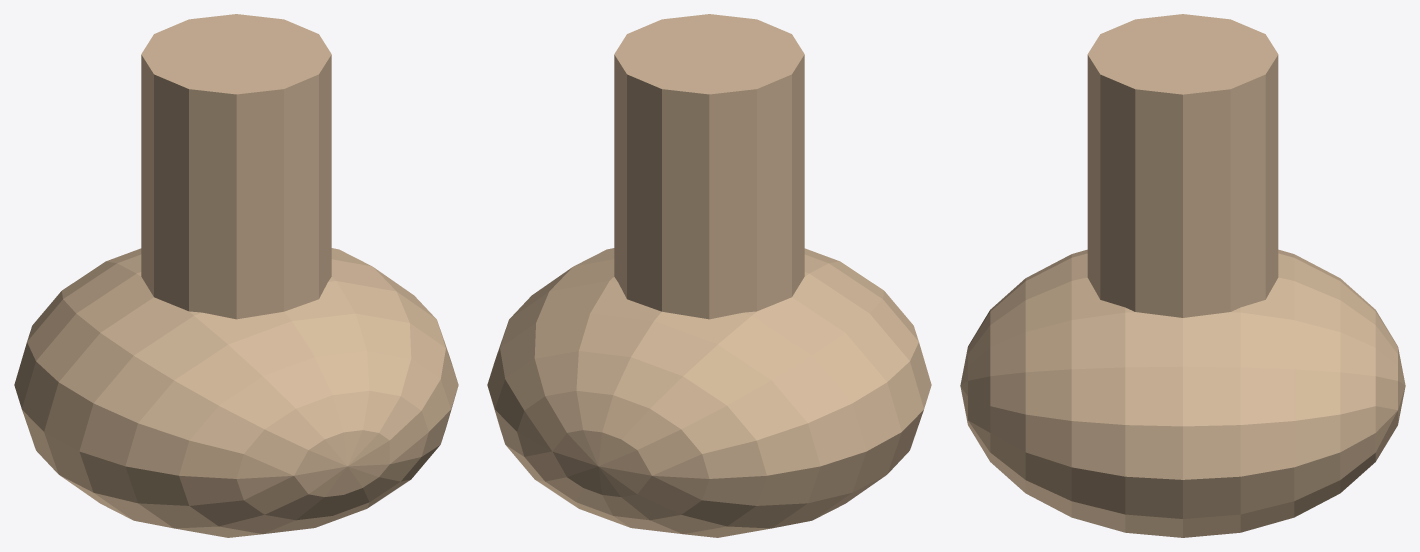
Rendered from DoorKnob.glb.
3 renders of one model, left to right at view 1: azimuth 30°, elevation 25°; view 2: azimuth 150°, elevation 25°; view 3: azimuth 270°, elevation 25°, orthographic.
Parts seen in each view (by area): view 1: DoorKnob.001; view 2: DoorKnob.001; view 3: DoorKnob.001.
Boxes of the visible parts, x1=… form: DoorKnob.001: x1=14, y1=14, x2=458, y2=537; DoorKnob.001: x1=487, y1=14, x2=931, y2=537; DoorKnob.001: x1=960, y1=14, x2=1405, y2=537.
Bounding box in the file's own units: 0.028 × 0.0314 × 0.028.
